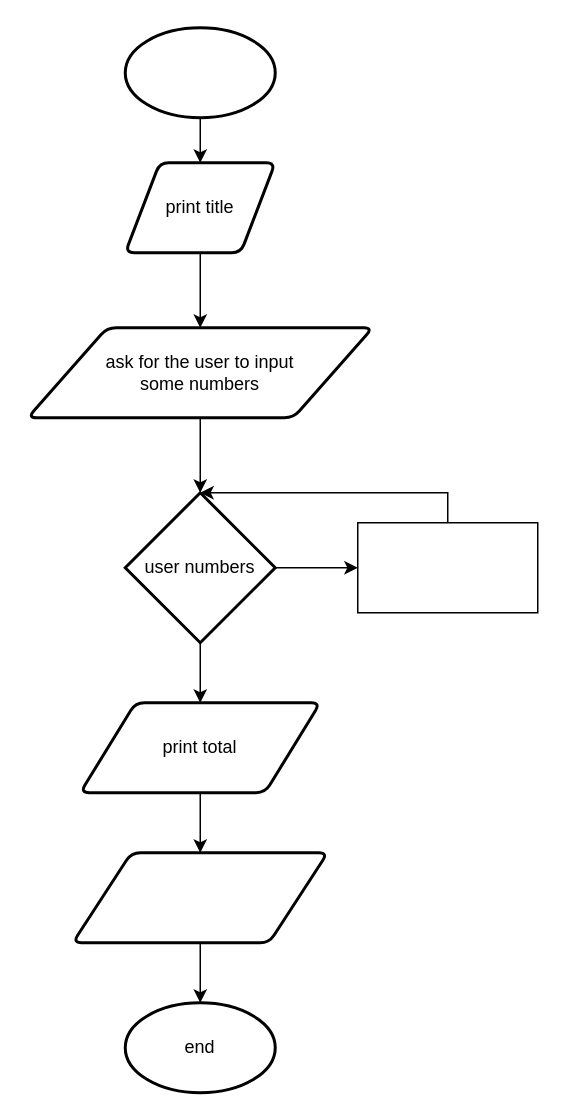
The diagram is 564 pixels wide and 1119 high, and some of its shapes have lost their labels. Each missing label, with the centre of its shape:
calculate sum: the point at 447,567
print program complete: the point at 199,897
start: the point at 199,72
